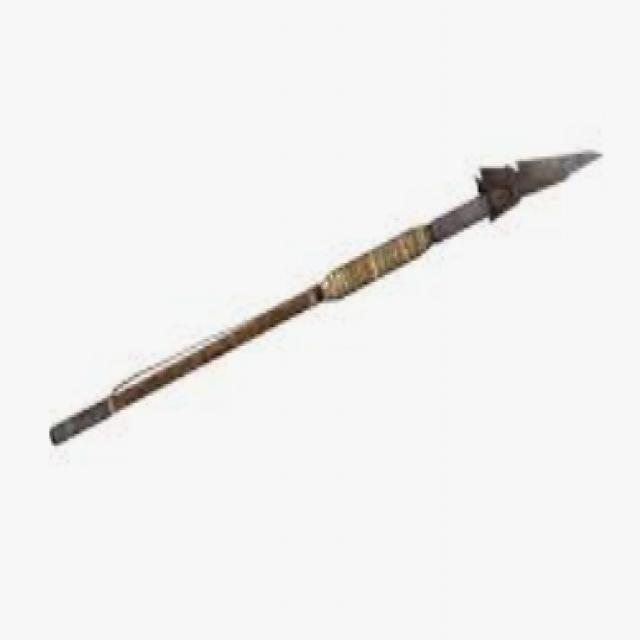spear: (30, 136, 610, 457)
